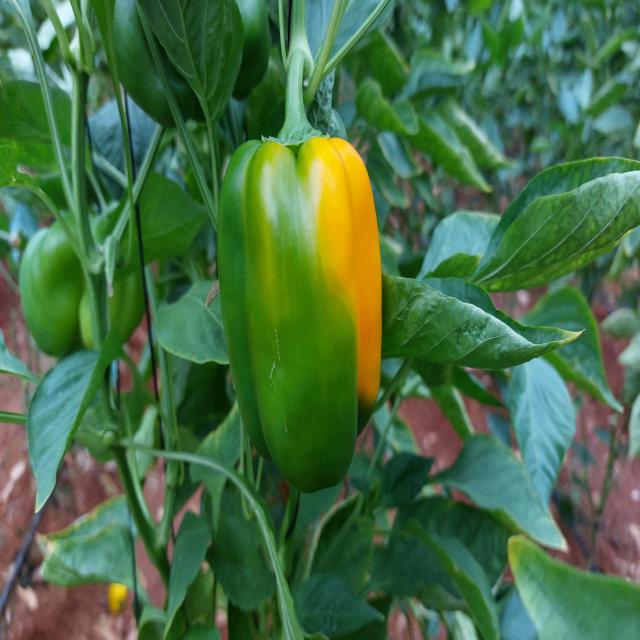GreenishYellow--Can-be-Harvested: (215, 118, 402, 506)
